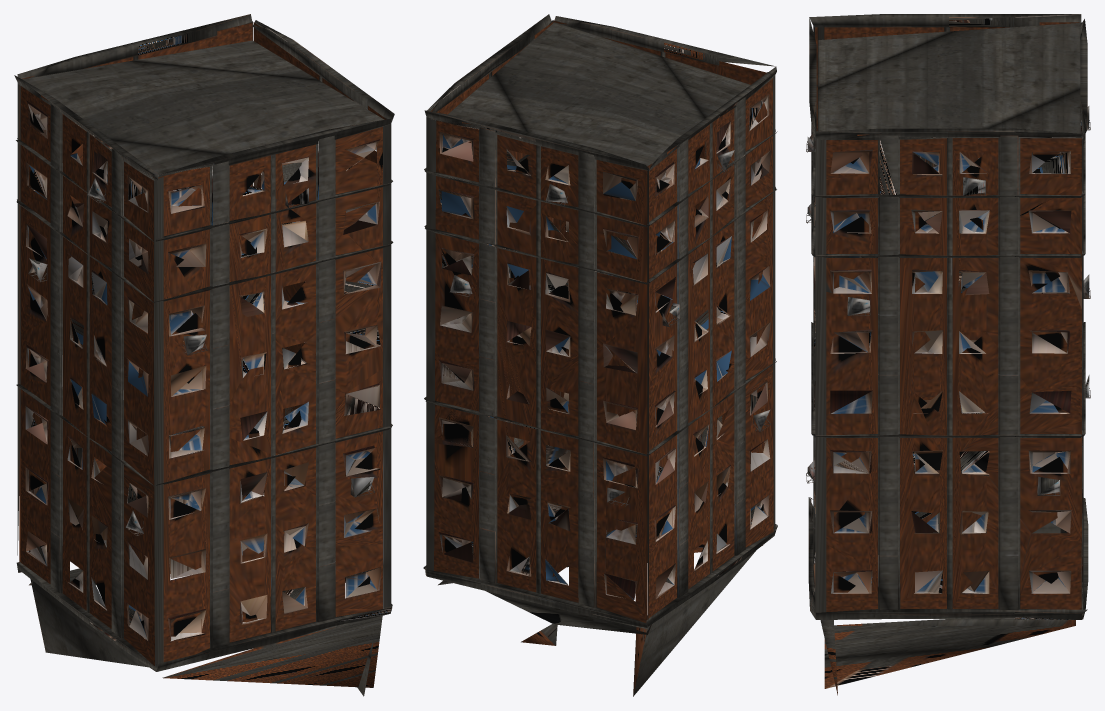
3 views of the same model, side by side, from view 1: azimuth 30°, elevation 25°; view 2: azimuth 150°, elevation 25°; view 3: azimuth 270°, elevation 25° (orthographic). The views are drawn at different scales.
Parts seen in each view (by area): view 1: Building-Small-BAKED.001; view 2: Building-Small-BAKED.001; view 3: Building-Small-BAKED.001.
Boxes of the visible parts, x1,y1,x2,y2 form: Building-Small-BAKED.001: (14,14,394,696); Building-Small-BAKED.001: (423,14,777,696); Building-Small-BAKED.001: (806,14,1090,695).
Size of the model in its own units: 12.88 by 28.5 by 12.88.
1 material, 1 textured.
